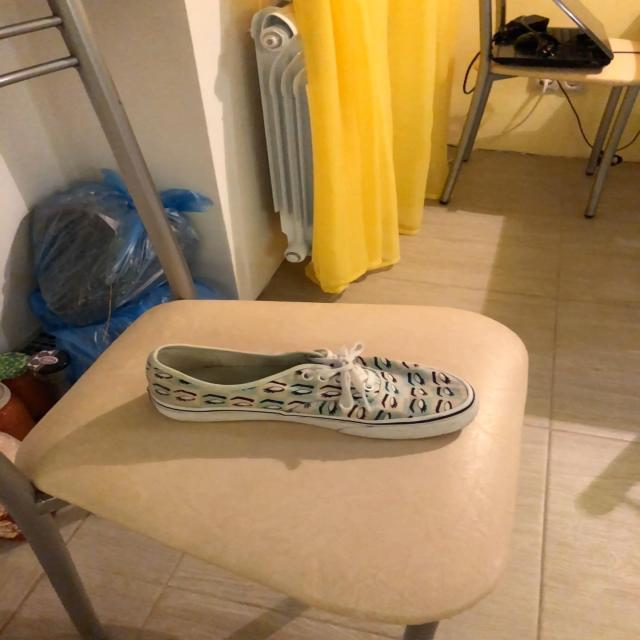shoe: (146, 344, 476, 439)
